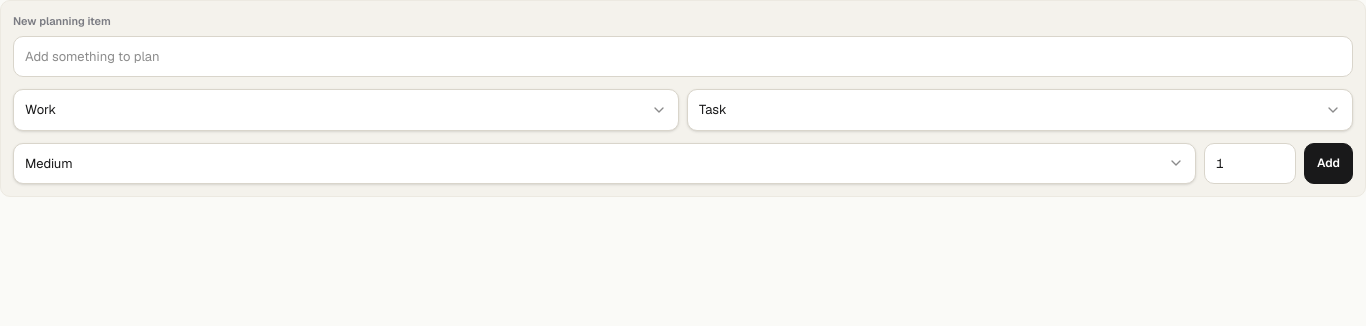
AddItemForm › should open category dropdown and show options
Step 1. Click the dropdown named "Category" → [41, 110], box [13,89,679,130]
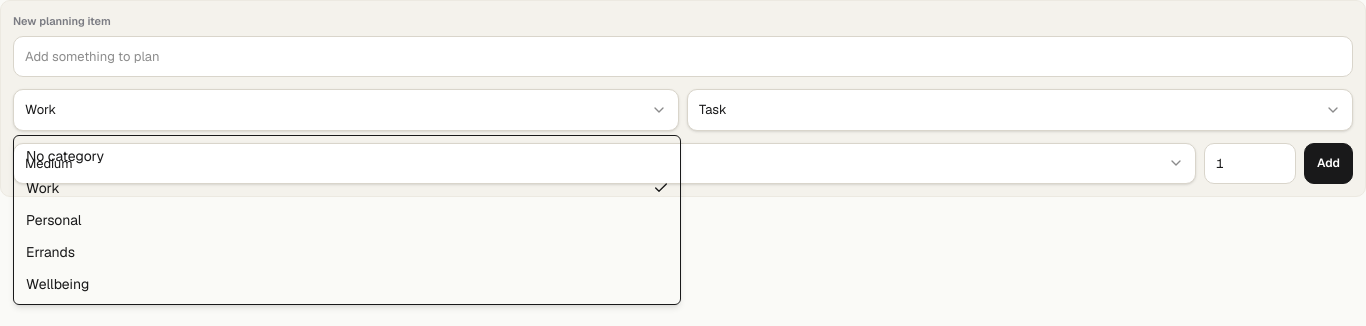
Expected: the option "No category" is shown, [26,147,104,165]
Expected: the option "Work" is shown, [26,179,669,197]
Expected: the option "Personal" is shown, [26,211,82,229]
